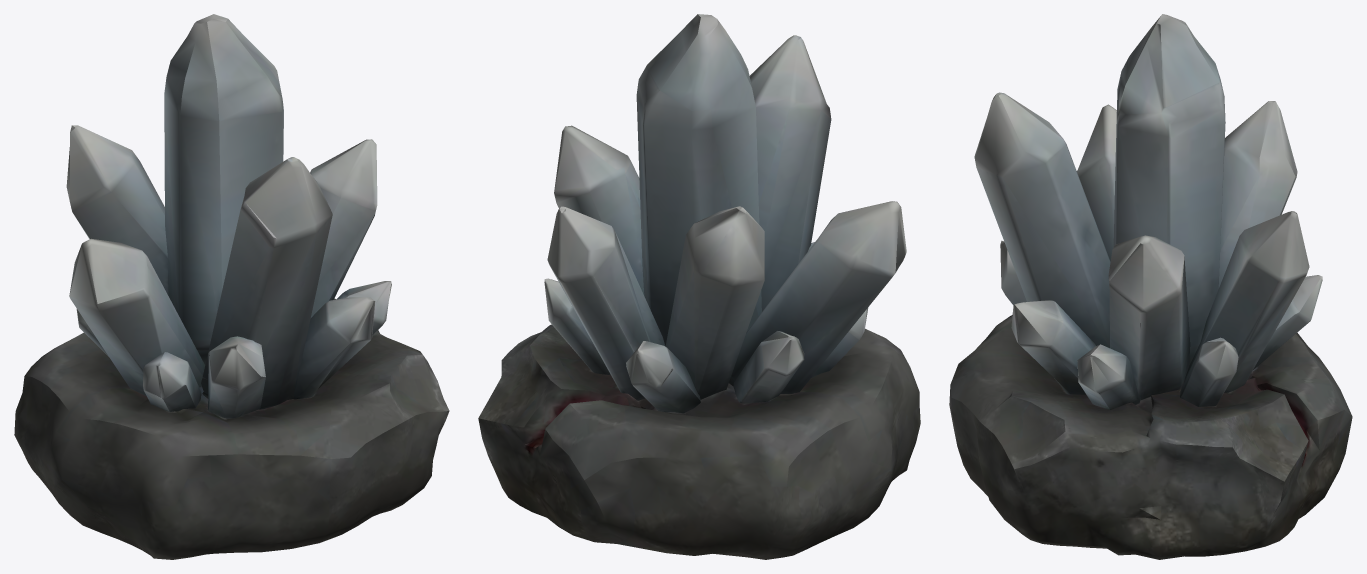
Rendered from crystal.glb.
3 renders of one model, left to right at view 1: azimuth 30°, elevation 25°; view 2: azimuth 150°, elevation 25°; view 3: azimuth 270°, elevation 25°, orthographic. The views are drawn at different scales.
Visible parts, largest first — view 1: model; view 2: model; view 3: model.
Boxes of the visible parts, box(x1,y1,x2,y2) form: model: box(14, 14, 449, 559); model: box(478, 14, 920, 559); model: box(949, 14, 1352, 559).
Size of the model in its own units: 0.7652 by 1 by 0.7886.
1 material, 1 textured.
